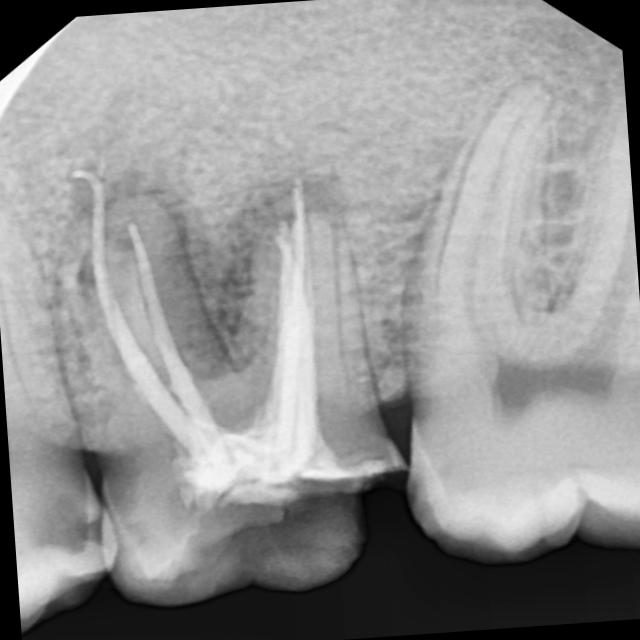RCT: (62, 158, 385, 516)
